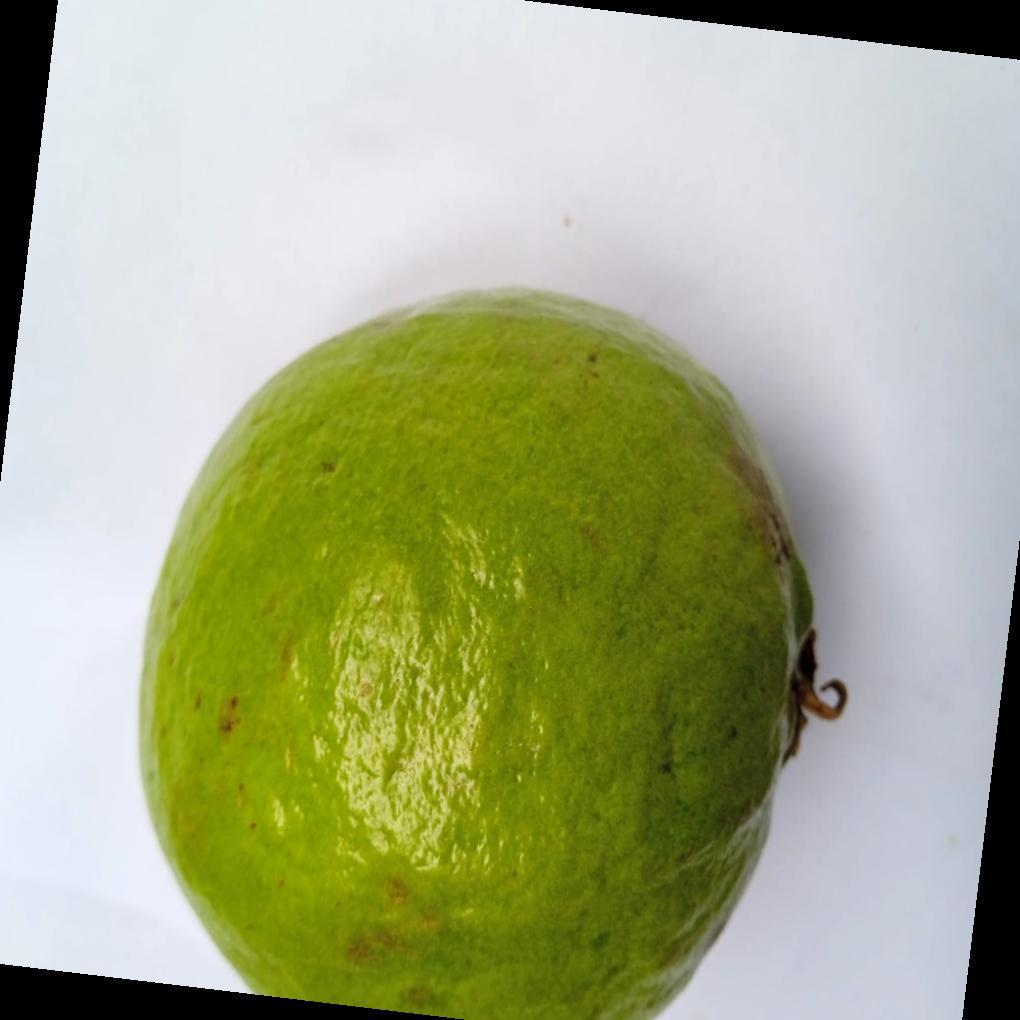FreshGuava: (134, 289, 828, 1020)
